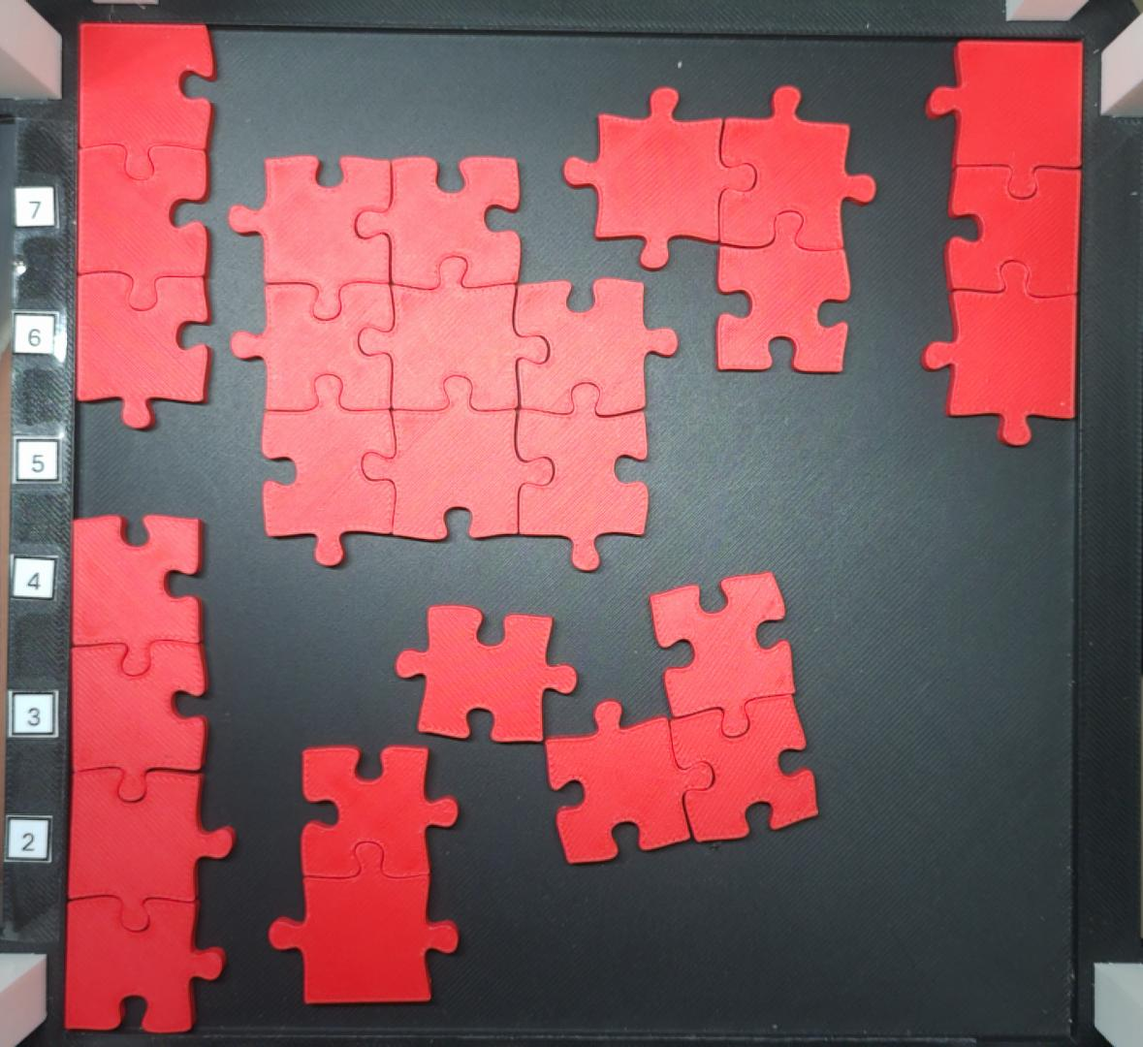p_1: (391, 601, 581, 748)
p_2: (262, 742, 464, 1007)
p_3: (561, 81, 879, 377), (540, 570, 822, 867), (919, 35, 1087, 448), (75, 19, 218, 431)
p_4: (62, 512, 238, 1034)
p_m: (224, 151, 681, 577)
